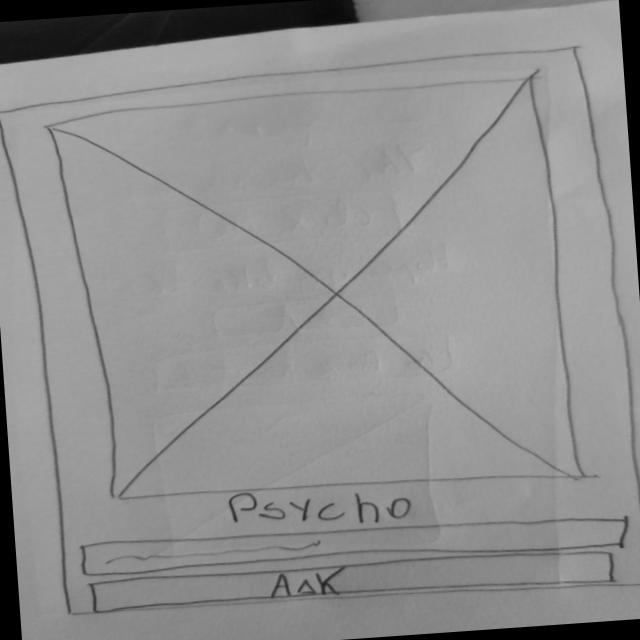button: (81, 544, 621, 614)
container: (1, 39, 640, 626)
image: (55, 74, 588, 505)
input: (75, 502, 632, 580)
label: (212, 479, 428, 535)
